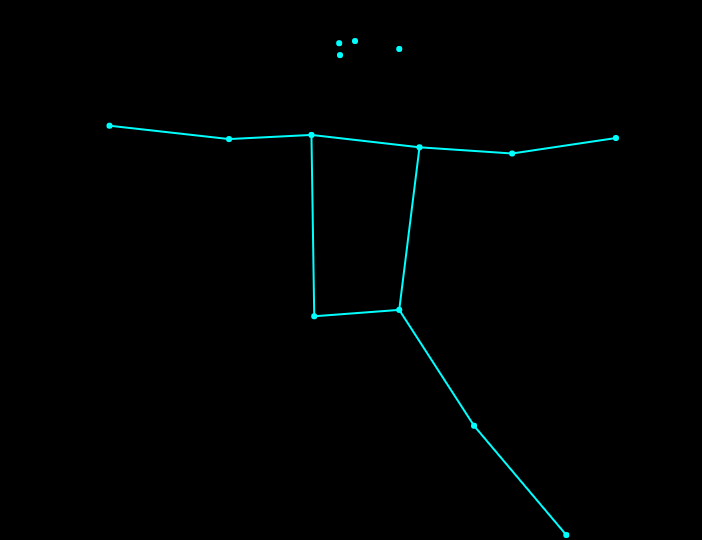warrior_2: (94, 28, 624, 540)
